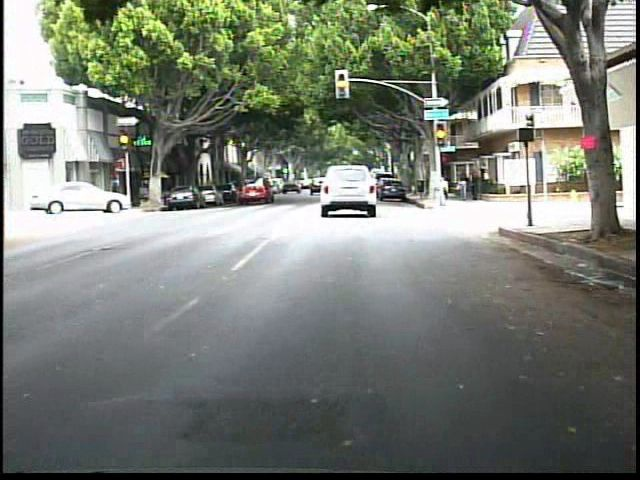person: (432, 171, 453, 210), (457, 167, 472, 202), (468, 167, 481, 204), (479, 161, 490, 196)
